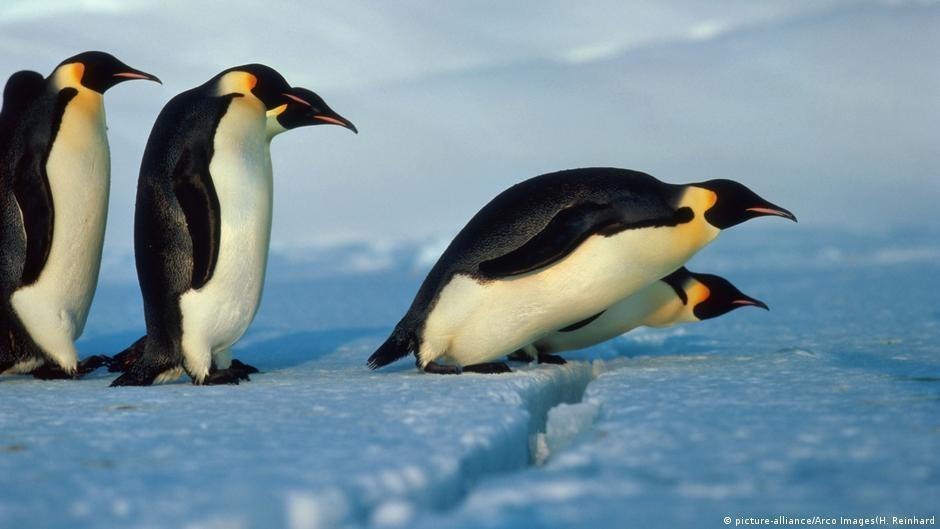Penguin: (367, 167, 797, 372), (110, 64, 320, 385), (0, 51, 163, 378), (509, 266, 771, 365), (268, 87, 357, 144)
